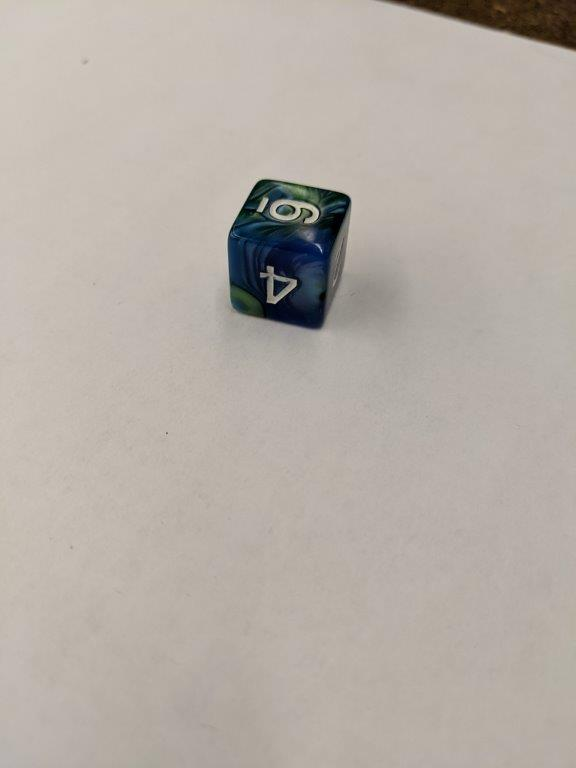d6-6: (226, 174, 354, 328)
